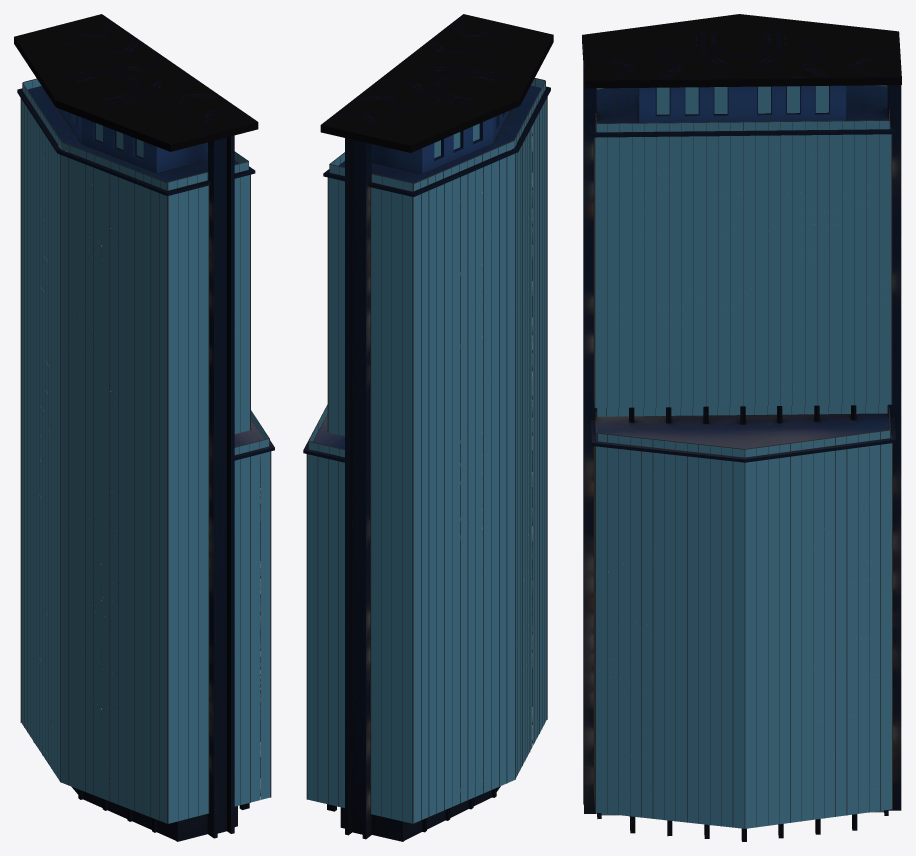
The model's file is Architecture_landing.glb.
The picture shows the model from 3 angles, left to right: view 1: azimuth 30°, elevation 25°; view 2: azimuth 150°, elevation 25°; view 3: azimuth 270°, elevation 25°; orthographic projection. The views are drawn at different scales.
Parts seen in each view (by area): view 1: glass, Facade, Structure.Walls, Rooftop, Floor; view 2: glass, Facade, Structure.Walls, Rooftop, Floor; view 3: glass, Rooftop, Facade, Structure.Walls, Floor, Columns.
Part boxes in pixels (left/top/right/bottom): glass: left=21, top=79, right=270, bottom=823; Facade: left=20, top=78, right=271, bottom=824; Structure.Walls: left=17, top=88, right=274, bottom=841; Rooftop: left=14, top=14, right=258, bottom=173; Floor: left=22, top=86, right=269, bottom=795; glass: left=307, top=78, right=546, bottom=823; Facade: left=306, top=78, right=547, bottom=823; Structure.Walls: left=303, top=86, right=550, bottom=841; Rooftop: left=320, top=14, right=553, bottom=173; Floor: left=308, top=85, right=546, bottom=742; glass: left=595, top=85, right=891, bottom=828; Rooftop: left=582, top=14, right=901, bottom=122; Facade: left=593, top=85, right=892, bottom=828; Structure.Walls: left=583, top=66, right=901, bottom=819; Floor: left=594, top=85, right=891, bottom=457; Columns: left=629, top=405, right=857, bottom=841.
Size of the model in its own units: 52.48 by 195 by 75.64.
7 materials, 6 textured.
